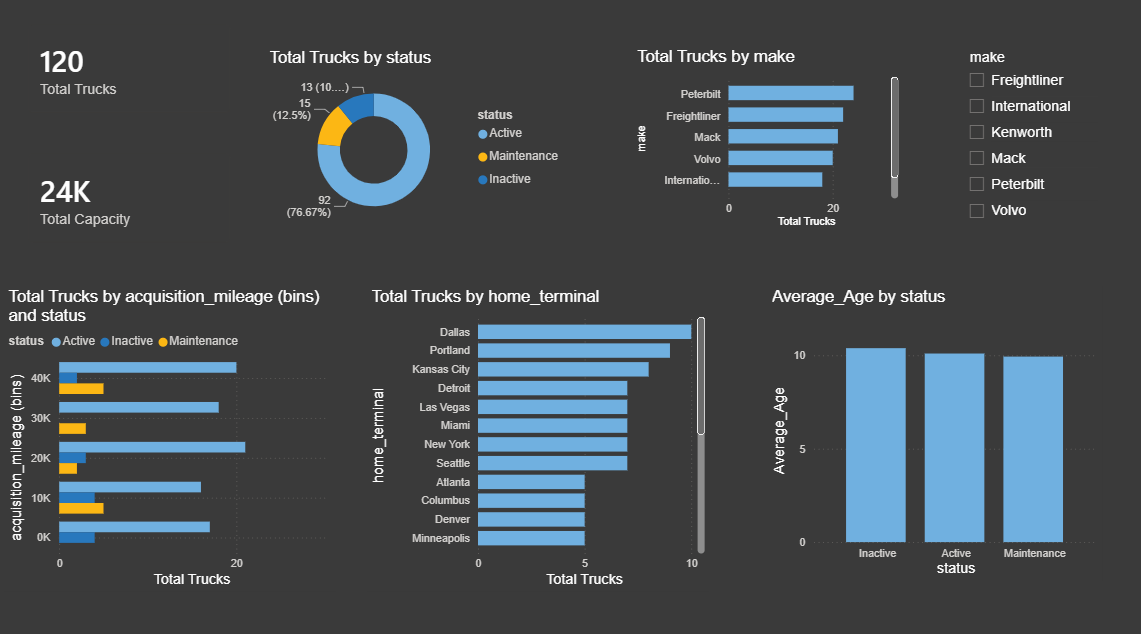

The dashboard page shown, as its layout file describes it:
{"tool":"powerbi","page":{"name":"Page ١","canvas":[1280,720],"ordinal":0},"visuals":[{"type":"clusteredBarChart","fields":{"Category":["trucks.make"],"Y":["trucks.Total Trucks"]},"box":[708.6,54.3,300,205.7],"z":0},{"type":"cardVisual","fields":{"Data":["trucks.Total Trucks"]},"box":[20,13,258,132],"z":1000},{"type":"cardVisual","fields":{"Data":["trucks.Total Capacity"]},"box":[20,156,258,133],"z":2000},{"type":"clusteredBarChart","fields":{"Y":["trucks.Total Trucks"],"Category":["trucks.home_terminal"]},"box":[413.3,321.7,380,338.3],"z":3000},{"type":"donutChart","fields":{"Category":["trucks.status"],"Y":["trucks.Total Trucks"]},"box":[300,56,340,205],"z":4000},{"type":"slicer","fields":{"Values":["trucks.make"]},"box":[1070,51.4,160,215.7],"z":5000},{"type":"clusteredColumnChart","fields":{"Category":["trucks.status"],"Y":["trucks.Average_Age"]},"box":[858.3,321.7,371.7,326.7],"z":6000},{"type":"clusteredBarChart","fields":{"Y":["trucks.Total Trucks"],"Category":["trucks.acquisition_mileage (bins)"],"Series":["trucks.status"]},"box":[10,321.7,368.3,338.3],"z":7000}]}

Visuals, with their boxes in screenshot pixels (x1, y1, x2, y2), scaled from the page's 1280x720 canvas onto the 1141x634 screenshot:
clusteredBarChart - trucks.make x trucks.Total Trucks: <region>632, 48, 899, 229</region>
cardVisual - trucks.Total Trucks: <region>18, 11, 248, 128</region>
cardVisual - trucks.Total Capacity: <region>18, 137, 248, 254</region>
clusteredBarChart - trucks.Total Trucks x trucks.home_terminal: <region>368, 283, 707, 581</region>
donutChart - trucks.status x trucks.Total Trucks: <region>267, 49, 570, 230</region>
slicer - trucks.make: <region>954, 45, 1096, 235</region>
clusteredColumnChart - trucks.status x trucks.Average_Age: <region>765, 283, 1096, 571</region>
clusteredBarChart - trucks.Total Trucks x trucks.acquisition_mileage (bins): <region>9, 283, 337, 581</region>
